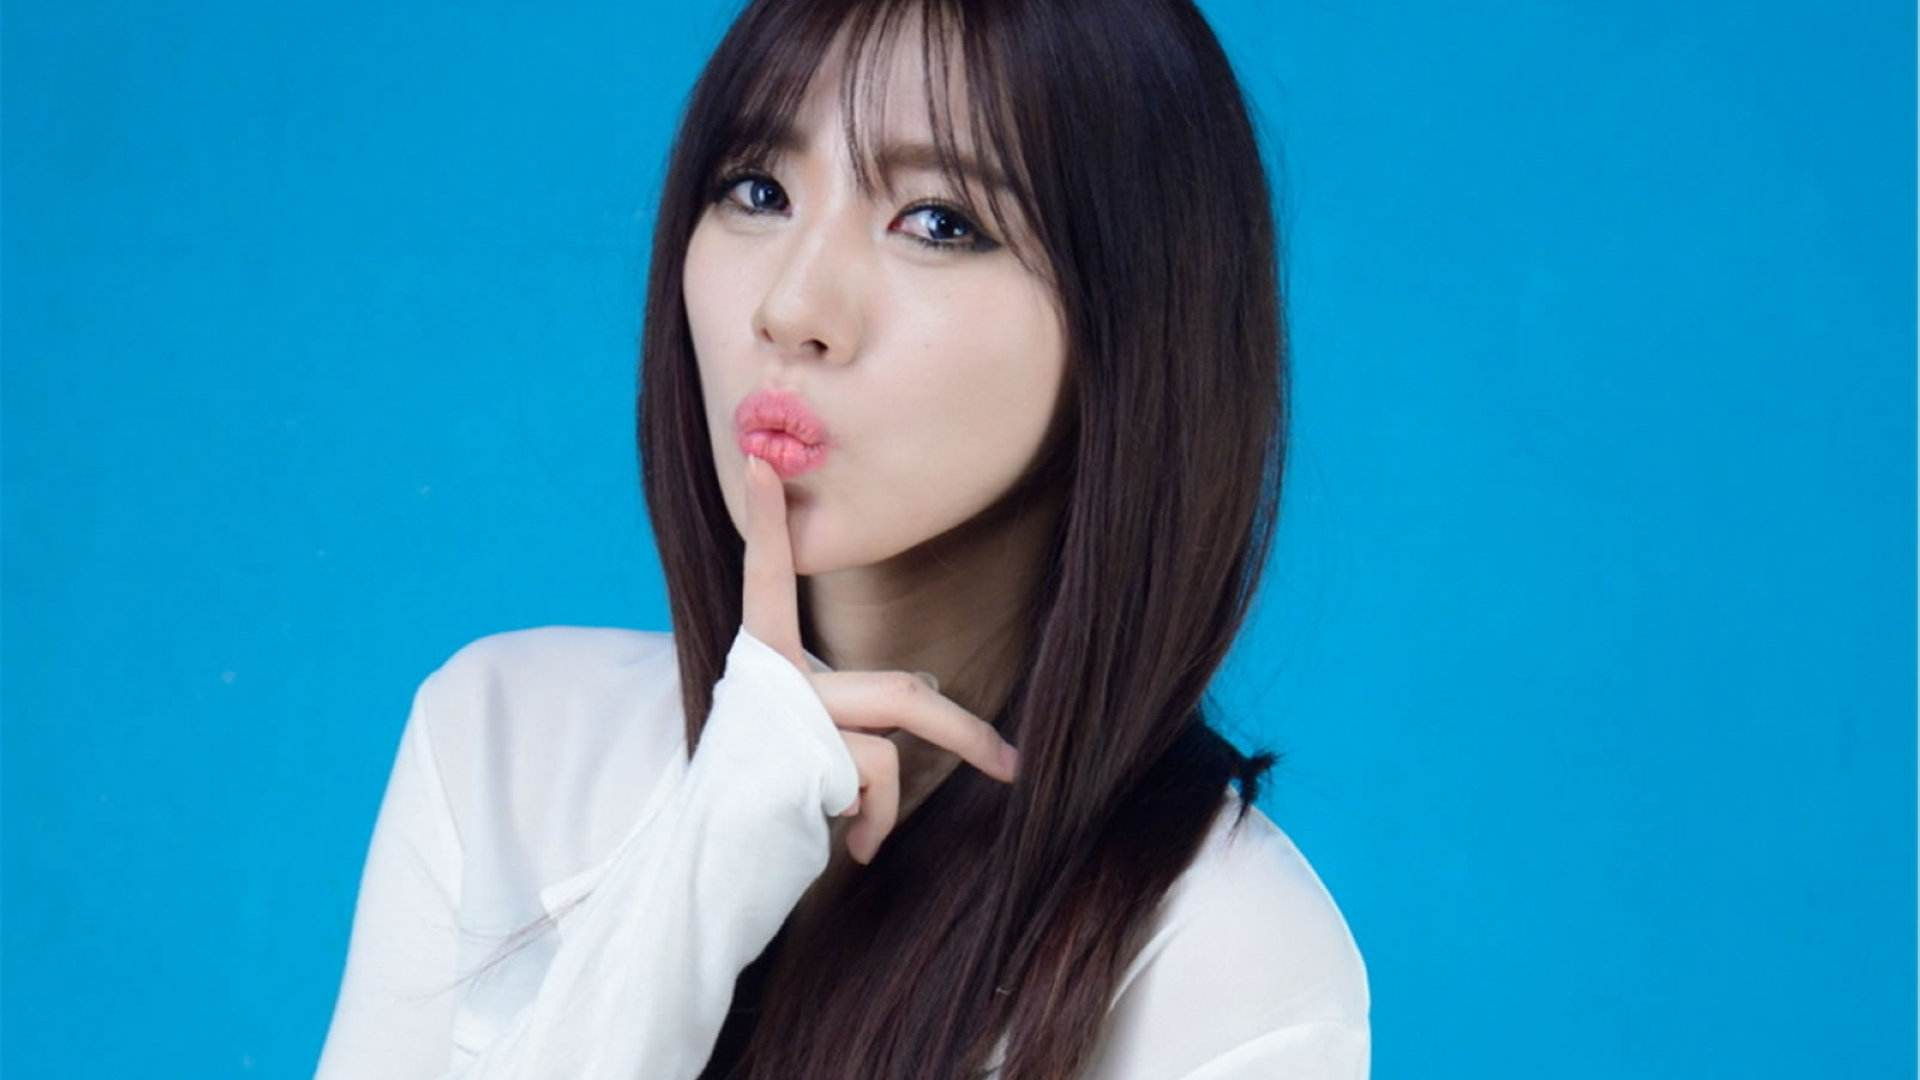person: (368, 39, 1238, 978)
